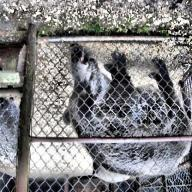boar: (54, 49, 192, 190)
